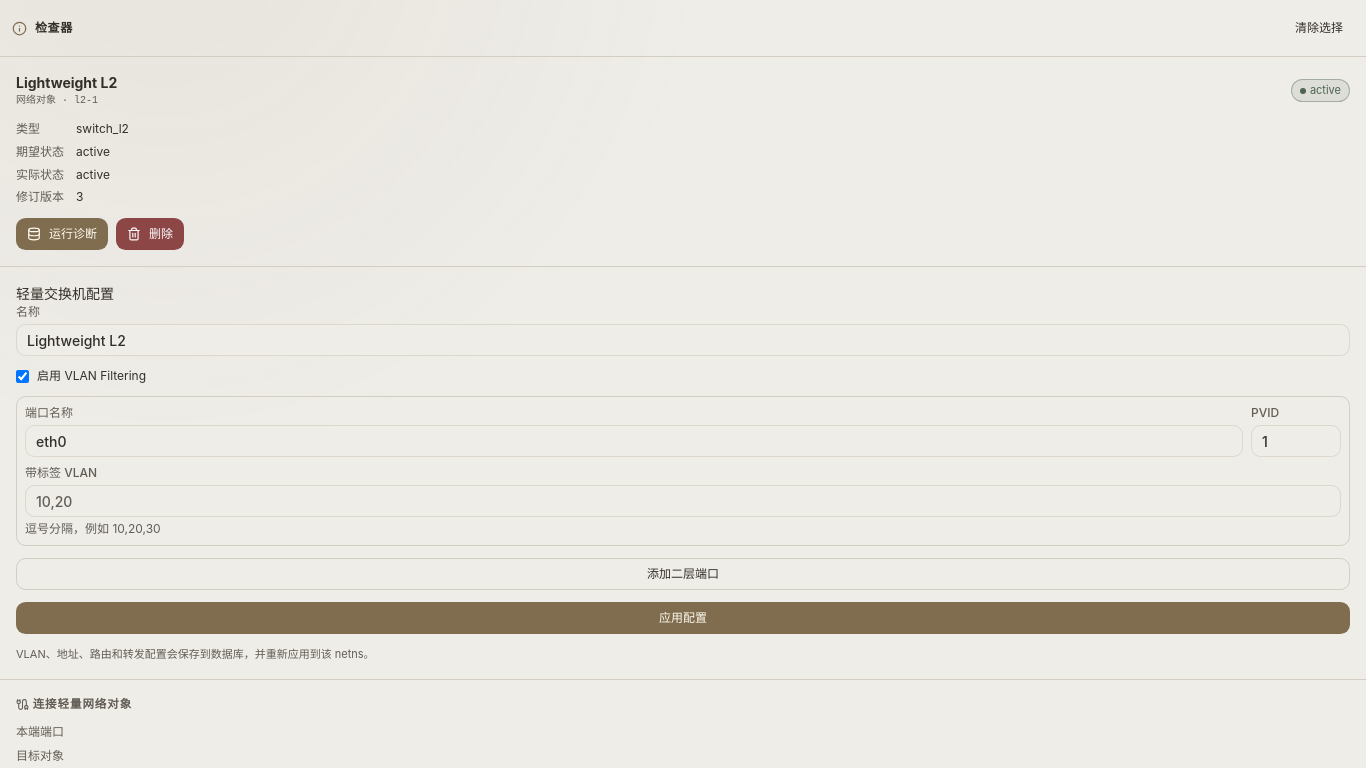
TopologyInspector › updates Lightweight L2 configuration from the Inspector
In the field labelled "端口名称": [634, 441] box [25,425,1243,457], type "lan0"
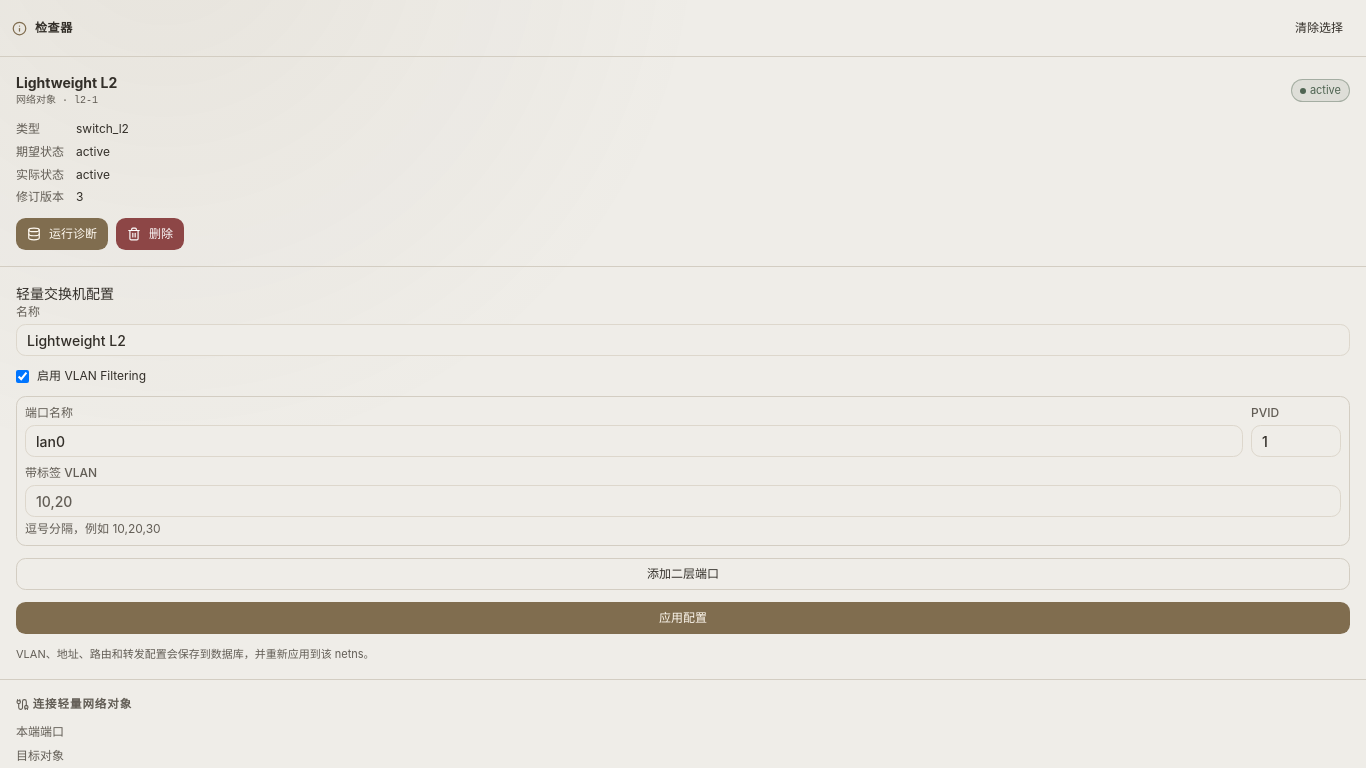
Replace the text in the number field labelled "PVID" with "10": [1296, 441] box [1251,425,1341,457]
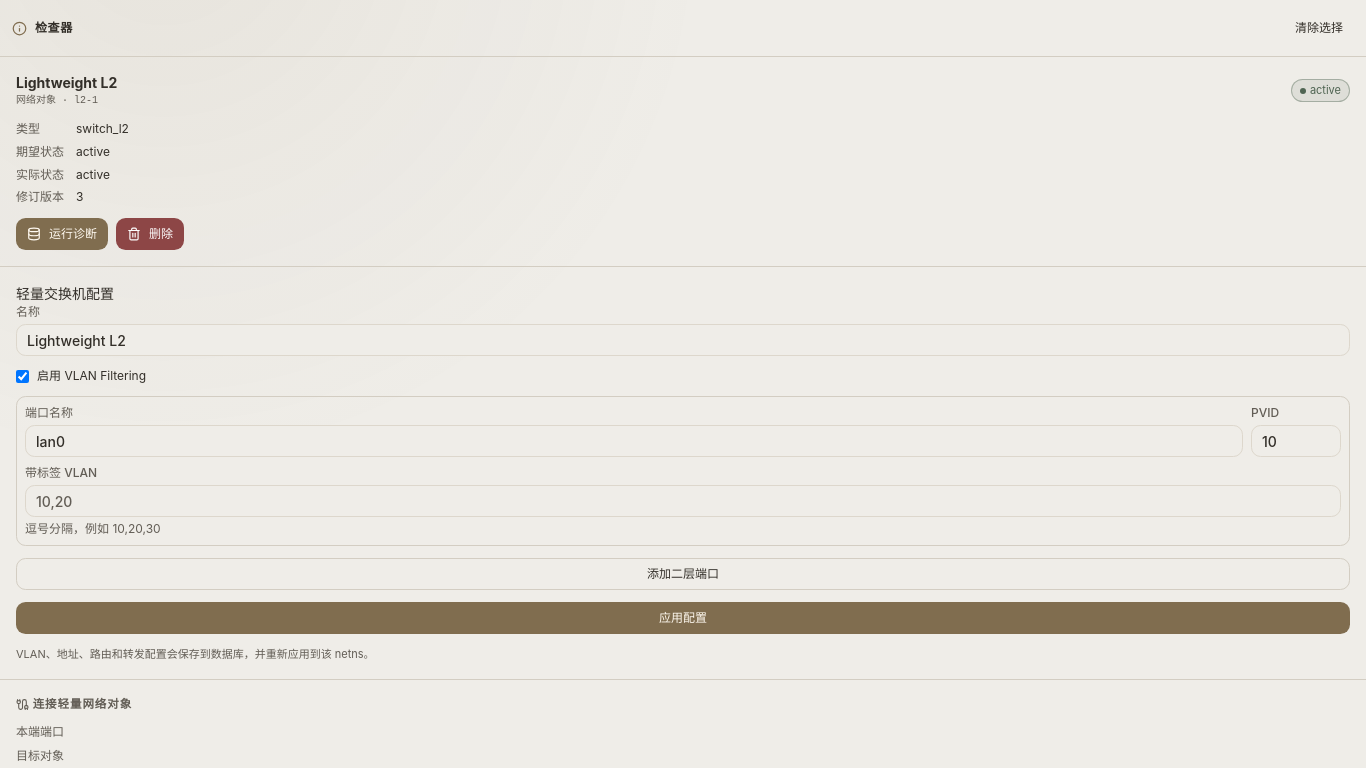
In the field labelled "带标签 VLAN 逗号分隔，例如 10,20,30": [683, 501] box [25,485,1341,517], type "20"
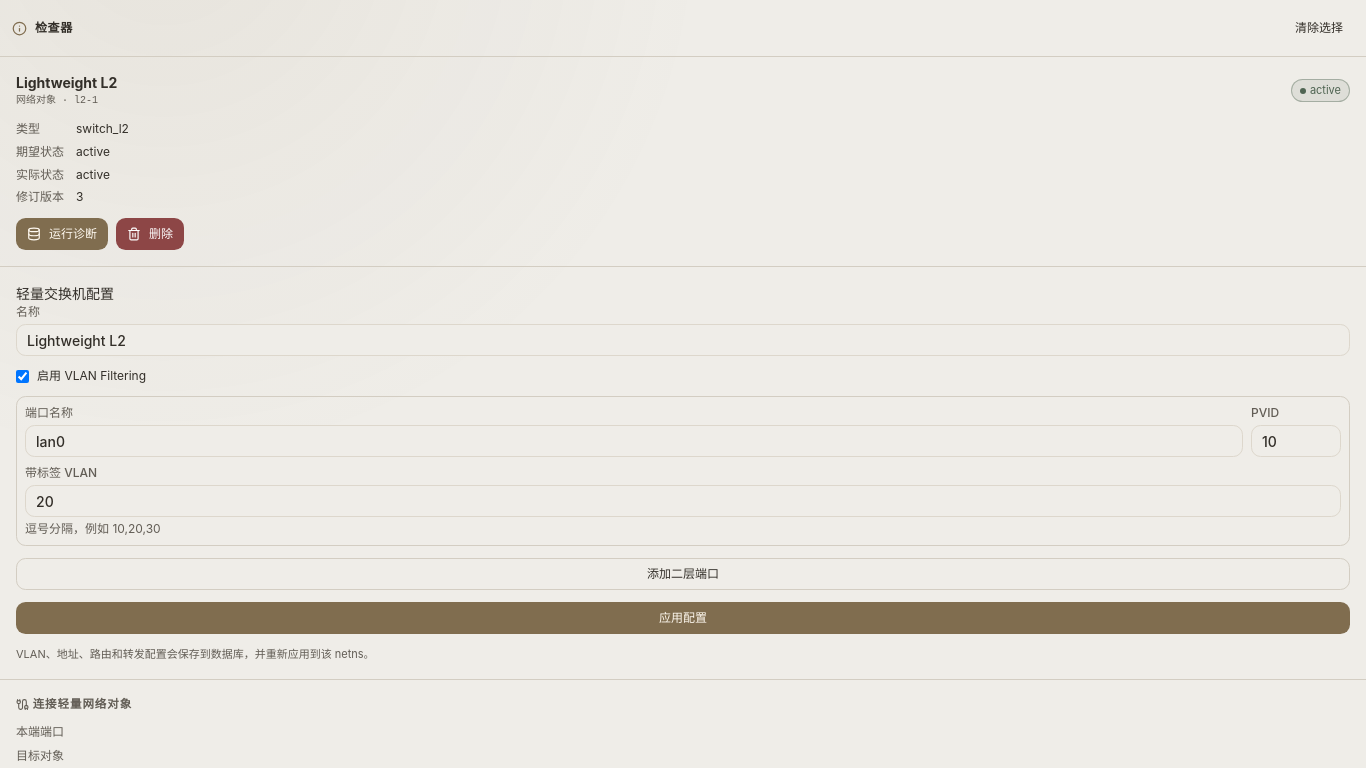
Click the button "应用配置": [683, 618] box [16,602,1350,634]
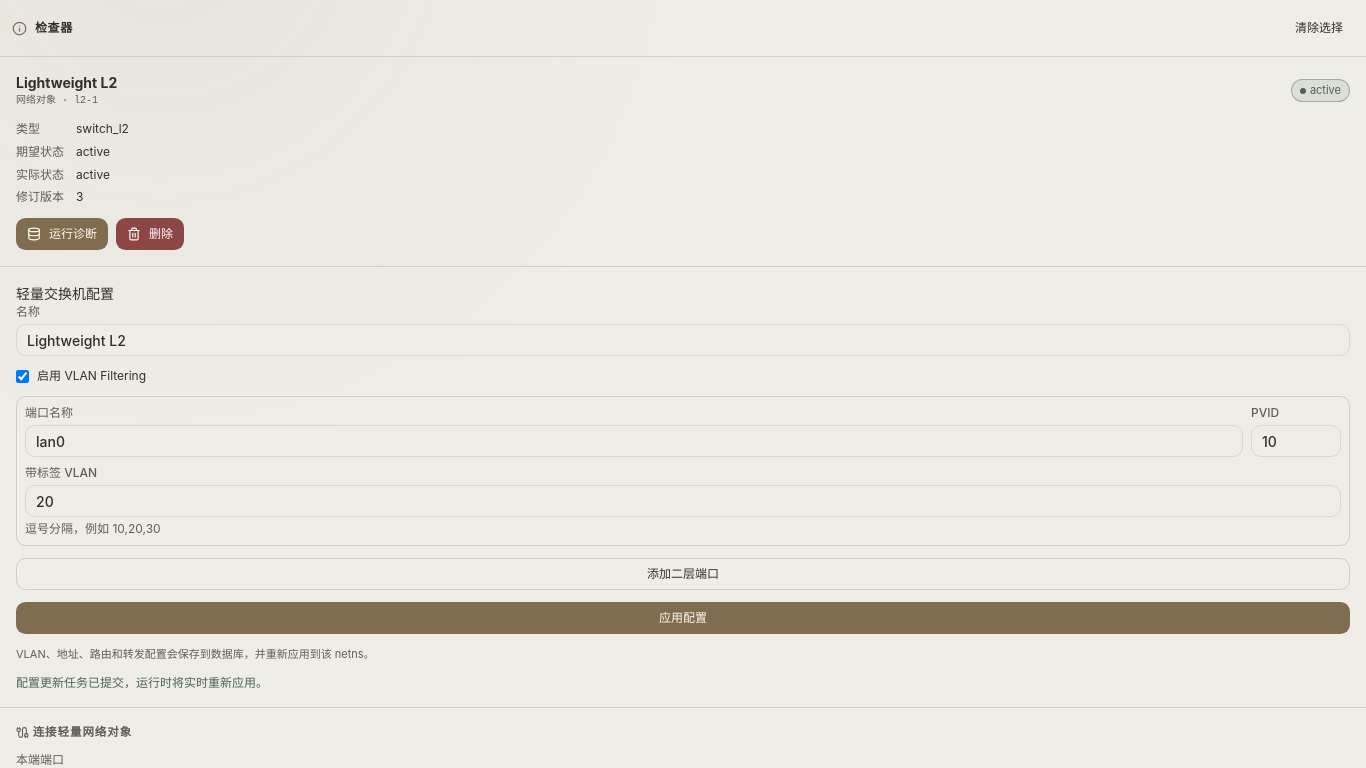
Expected: the text "配置更新任务已提交" is shown, [16,675,268,690]
